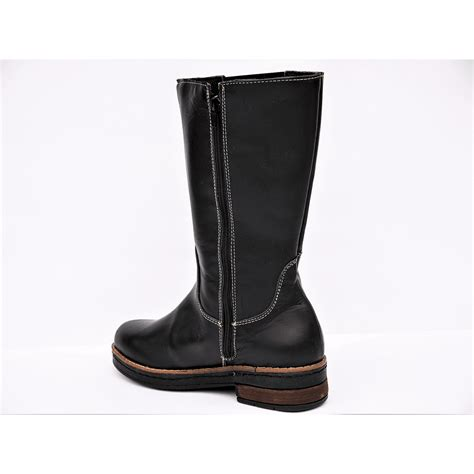cuero: (113, 71, 328, 373)
